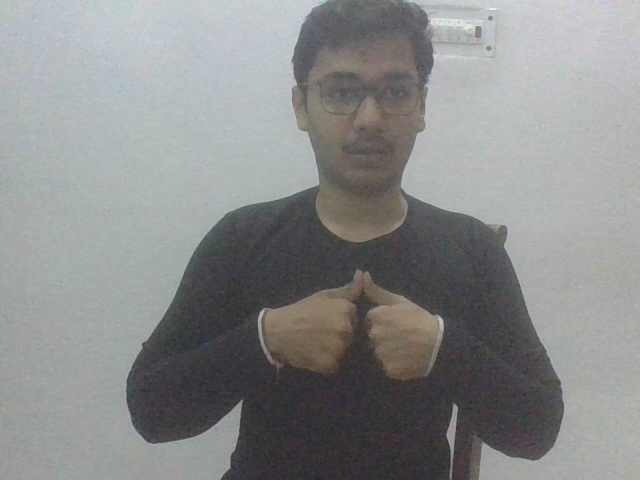A: (258, 267, 447, 391)
